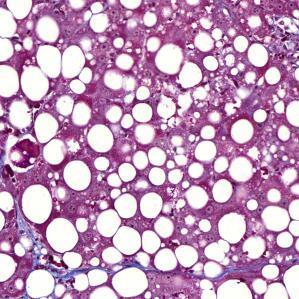fibrosis: (20, 222, 52, 266)
